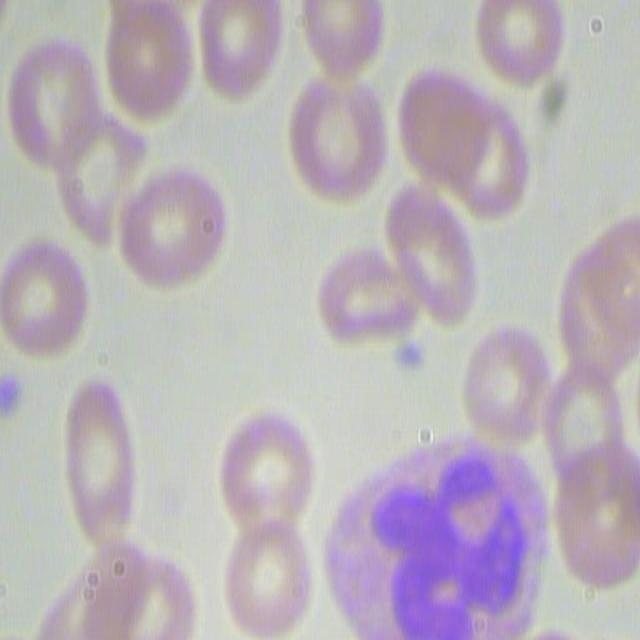RBC: (394, 69, 530, 235), (111, 161, 226, 294), (89, 2, 206, 127), (387, 172, 481, 326), (287, 71, 390, 207), (214, 407, 318, 538), (57, 376, 140, 539), (547, 446, 637, 590), (52, 108, 144, 248), (535, 360, 636, 487), (557, 218, 640, 365), (456, 324, 552, 449), (7, 40, 97, 173), (29, 545, 150, 640), (0, 240, 92, 362), (218, 519, 316, 633), (184, 1, 285, 98), (320, 252, 424, 335), (474, 0, 571, 80), (98, 568, 193, 640), (295, 0, 385, 75)
WBC: (334, 446, 549, 636)
platelets: (0, 368, 22, 424)
